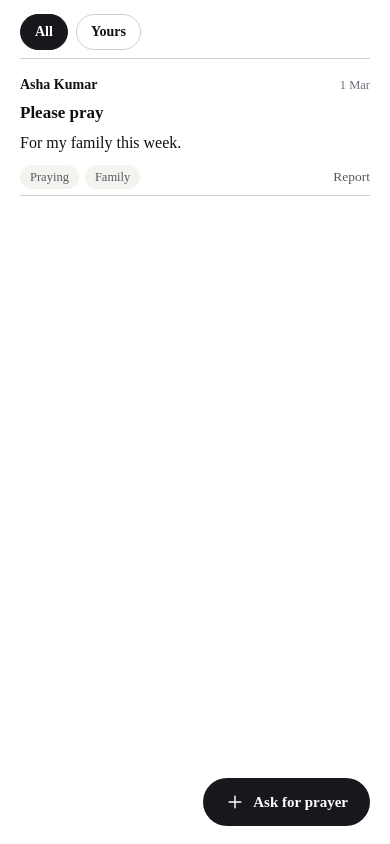
Scenario: asking for prayer › opens the complete form
Click the button with test id "prayer-wall-compose" at x=287, y=802, box 203,778 -> 370,826
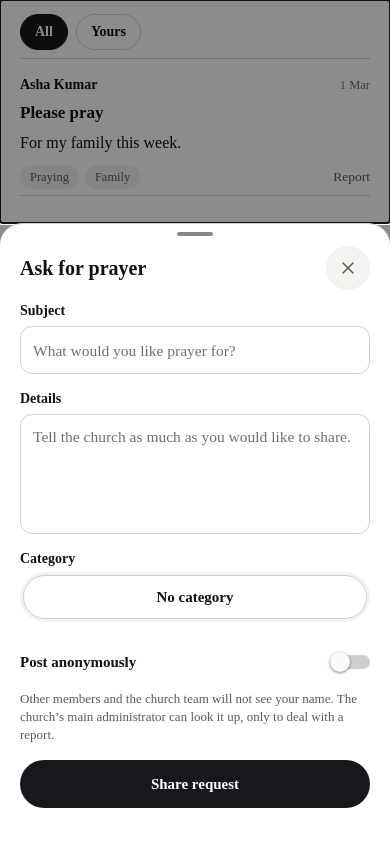
Expected: the field with test id "prayer-form-title" is shown, 20,326 -> 370,374
Expected: the text box with test id "prayer-form-body" is shown, 20,414 -> 370,534
Expected: the element with test id "prayer-form-category" is shown, 20,572 -> 370,622
